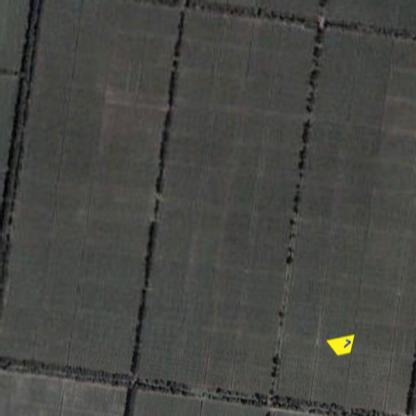7: (344, 338, 351, 350)
trapezium: (325, 333, 355, 358)
